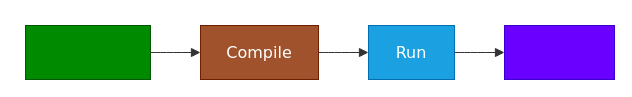
The diagram is 632 pixels wide and 97 high, and some of its shapes have lost their labels. The shapes that lost their labels are listed below. From the top down, each one's centre as x and y in pixels, then its label:
At (87,52): ".java file".
At (559,52): "Output".
